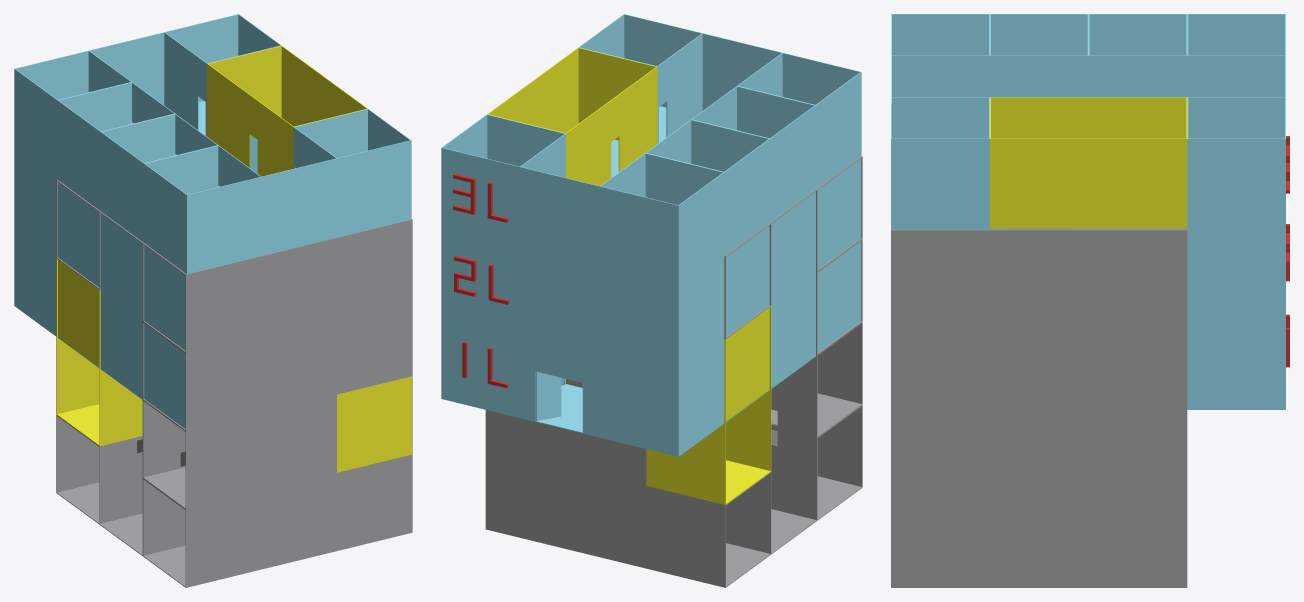
The model's file is 第十四组.glb.
3 renders of one model, left to right at view 1: azimuth 30°, elevation 25°; view 2: azimuth 150°, elevation 25°; view 3: azimuth 270°, elevation 25°, orthographic. The views are drawn at different scales.
Size of the model in its own units: 0.0151 by 0.0253 by 0.0202.
